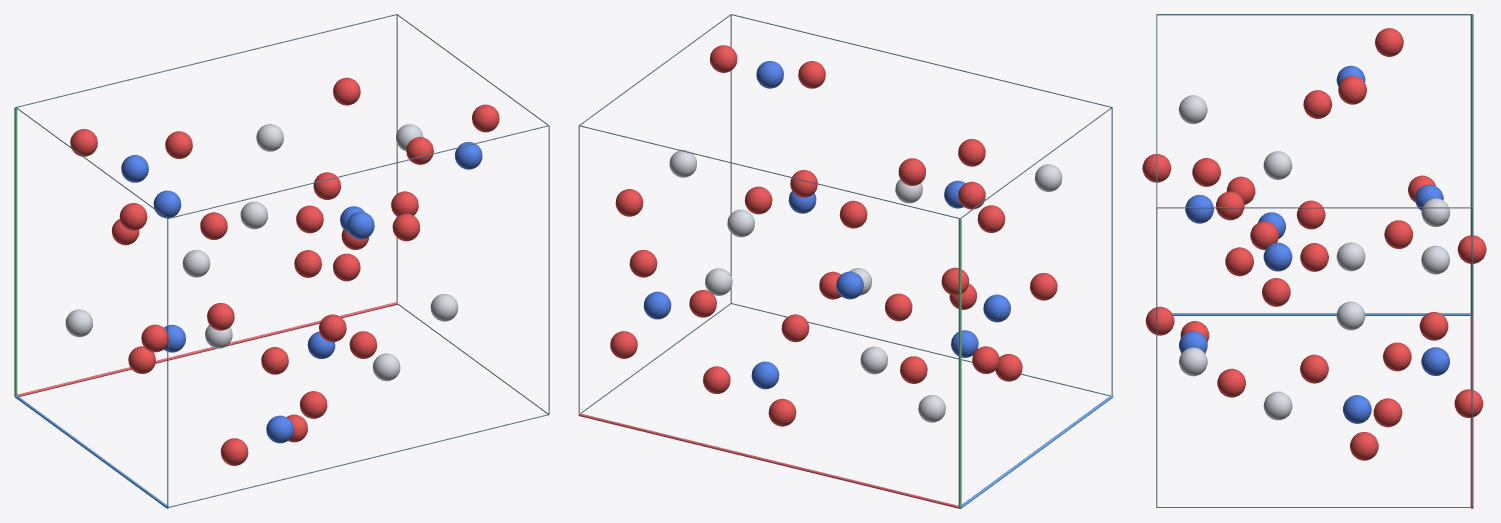
Rendered from cod-2105348.glb.
3 views of the same model, side by side, from view 1: azimuth 30°, elevation 25°; view 2: azimuth 150°, elevation 25°; view 3: azimuth 270°, elevation 25° (orthographic). The views are drawn at different scales.
Visible parts, largest first — view 1: Ô mạng và các trục a, b, c, O1 · O · 1 (×4), O5 · O · 1 (×4), O6 · O · 1 (×4), N1 · N · 1 (×3), Ag2 · Ag · 1 (×3), Ag1 · Ag · 1 (×3), O3 · O · 1 (×3), O4 · O · 1 (×3), O2 · O · 1 (×2), N2 · N · 1 (×2); view 2: Ô mạng và các trục a, b, c, N2 · N · 1 (×4), O6 · O · 1 (×4), Ag1 · Ag · 1 (×4), O2 · O · 1 (×4), O1 · O · 1 (×4), O4 · O · 1 (×3), O5 · O · 1 (×3), O3 · O · 1 (×3), Ag2 · Ag · 1 (×2), N1 · N · 1; view 3: Ô mạng và các trục a, b, c, Ag1 · Ag · 1 (×4), Ag2 · Ag · 1 (×4), O3 · O · 1 (×4), O2 · O · 1 (×4), O6 · O · 1 (×4), O5 · O · 1 (×4), O1 · O · 1 (×3), O4 · O · 1 (×3), N1 · N · 1 (×3), N2 · N · 1 (×3).
Boxes of the visible parts, x1,y1,x2,y2 form: Ô mạng và các trục a, b, c: [14, 14, 549, 508]; O1 · O · 1 (×4): [165, 131, 420, 465]; O5 · O · 1 (×4): [141, 104, 499, 374]; O6 · O · 1 (×4): [128, 77, 360, 373]; N1 · N · 1 (×3): [121, 155, 374, 443]; Ag2 · Ag · 1 (×3): [65, 201, 400, 381]; Ag1 · Ag · 1 (×3): [182, 124, 458, 321]; O3 · O · 1 (×3): [119, 172, 340, 418]; O4 · O · 1 (×3): [207, 137, 433, 358]; O2 · O · 1 (×2): [70, 129, 360, 281]; N2 · N · 1 (×2): [153, 142, 482, 218]; Ô mạng và các trục a, b, c: [578, 14, 1113, 508]; N2 · N · 1 (×4): [751, 61, 1010, 389]; O6 · O · 1 (×4): [615, 139, 999, 373]; Ag1 · Ag · 1 (×4): [705, 164, 1062, 374]; O2 · O · 1 (×4): [629, 181, 985, 383]; O1 · O · 1 (×4): [689, 158, 1022, 381]; O4 · O · 1 (×3): [703, 61, 912, 393]; O5 · O · 1 (×3): [710, 45, 1057, 426]; O3 · O · 1 (×3): [610, 170, 1005, 358]; Ag2 · Ag · 1 (×2): [669, 150, 945, 422]; N1 · N · 1: [643, 291, 671, 319]; Ô mạng và các trục a, b, c: [1156, 14, 1473, 508]; Ag1 · Ag · 1 (×4): [1178, 95, 1450, 420]; Ag2 · Ag · 1 (×4): [1179, 151, 1449, 376]; O3 · O · 1 (×4): [1145, 90, 1483, 417]; O2 · O · 1 (×4): [1217, 28, 1411, 397]; O6 · O · 1 (×4): [1142, 154, 1486, 383]; O5 · O · 1 (×4): [1216, 176, 1413, 427]; O1 · O · 1 (×3): [1262, 75, 1448, 340]; O4 · O · 1 (×3): [1192, 158, 1378, 460]; N1 · N · 1 (×3): [1179, 242, 1449, 375]; N2 · N · 1 (×3): [1185, 184, 1443, 423].
Size of the model in its own units: 10.17 by 7.39 by 7.63.
